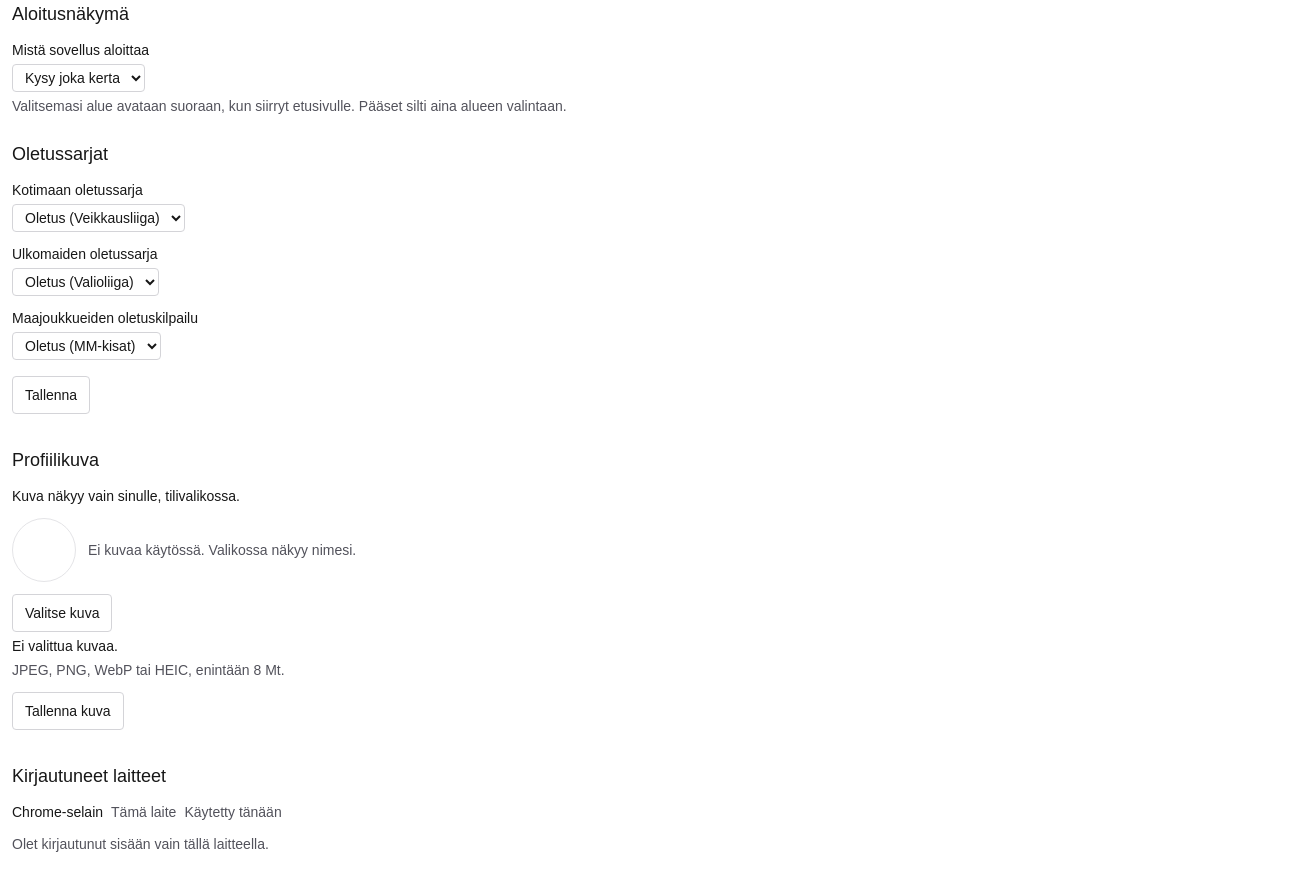
Test: preferences › confirms a save in Finnish
The image size is (1292, 891).
Step 1. Click the button "Tallenna" → click(51, 395), box [12, 376, 90, 414]
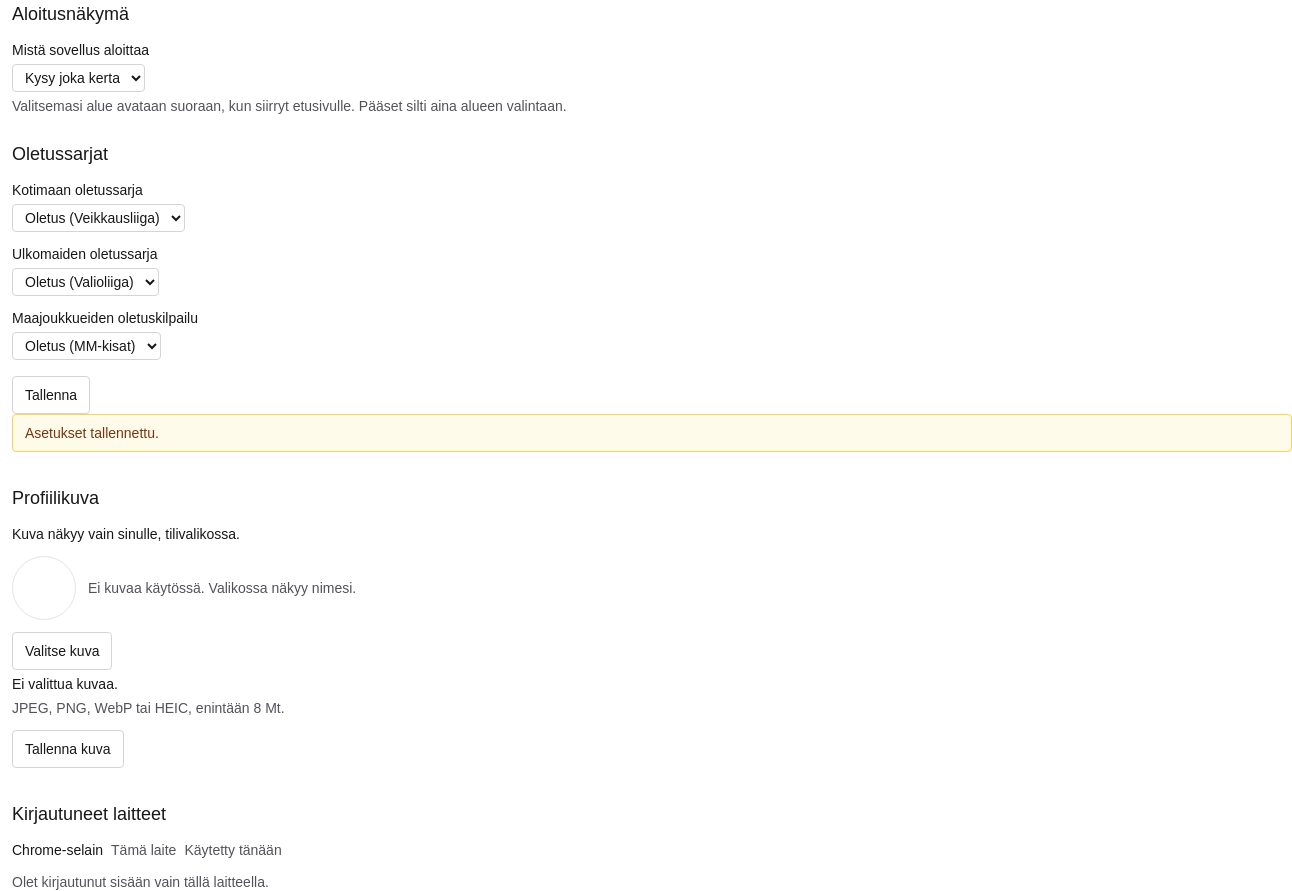
Expected: the text "Asetukset tallennettu." is shown, [12, 414, 1291, 452]
